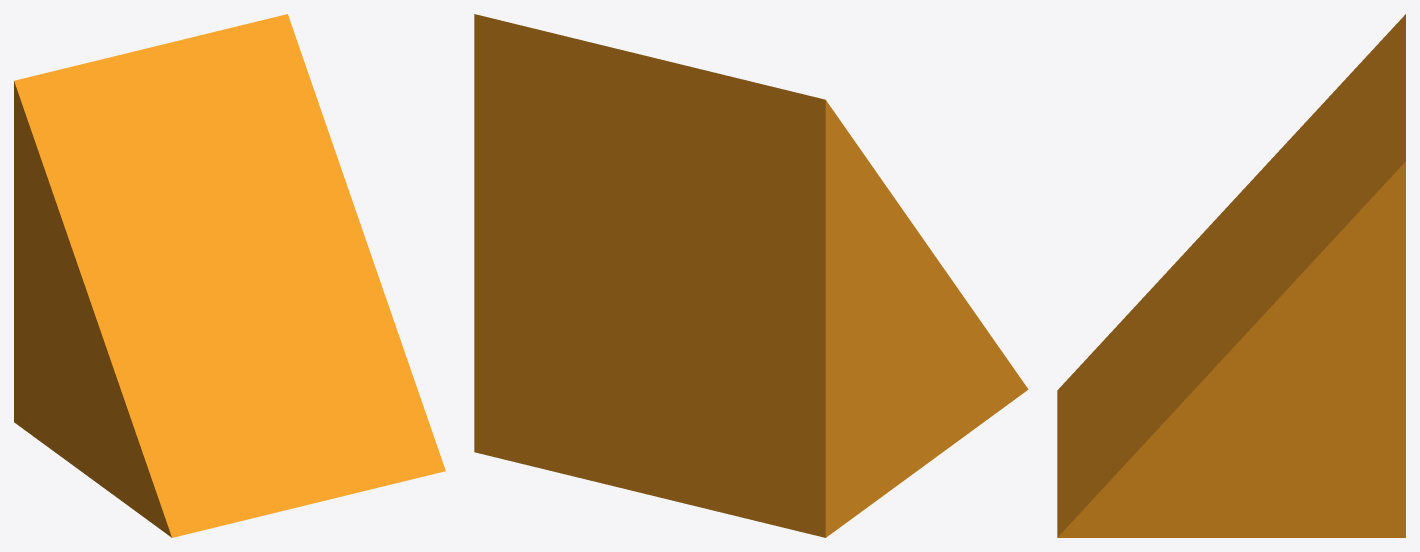
File: SM_Buildings_Ramp_50_1x1_01.fbx
3 views of the same model, side by side, from view 1: azimuth 30°, elevation 25°; view 2: azimuth 150°, elevation 25°; view 3: azimuth 270°, elevation 25° (orthographic). The views are drawn at different scales.
Visible parts, largest first — view 1: SM_Buildings_Ramp_50_1x1_01; view 2: SM_Buildings_Ramp_50_1x1_01; view 3: SM_Buildings_Ramp_50_1x1_01.
Boxes of the visible parts, x1,y1,x2,y2 form: SM_Buildings_Ramp_50_1x1_01: (14, 14, 445, 537); SM_Buildings_Ramp_50_1x1_01: (474, 14, 1028, 537); SM_Buildings_Ramp_50_1x1_01: (1057, 14, 1405, 537).
Bounding box in the file's own units: 100 × 119 × 100.
